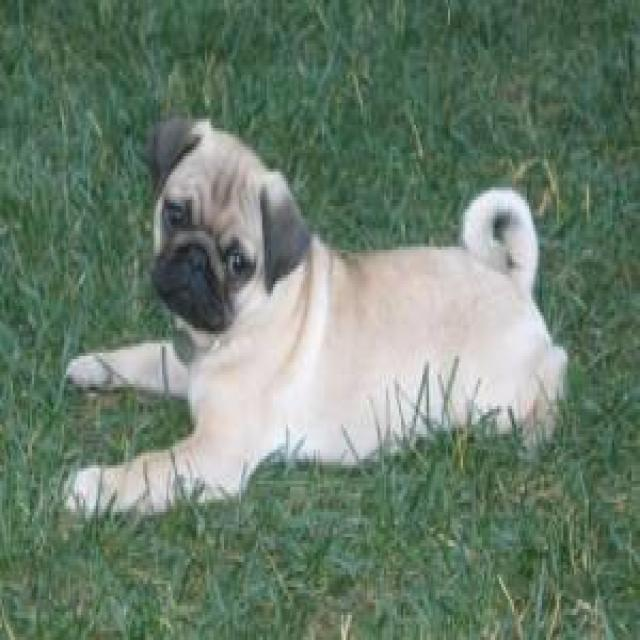dog-pug: (62, 109, 574, 509)
